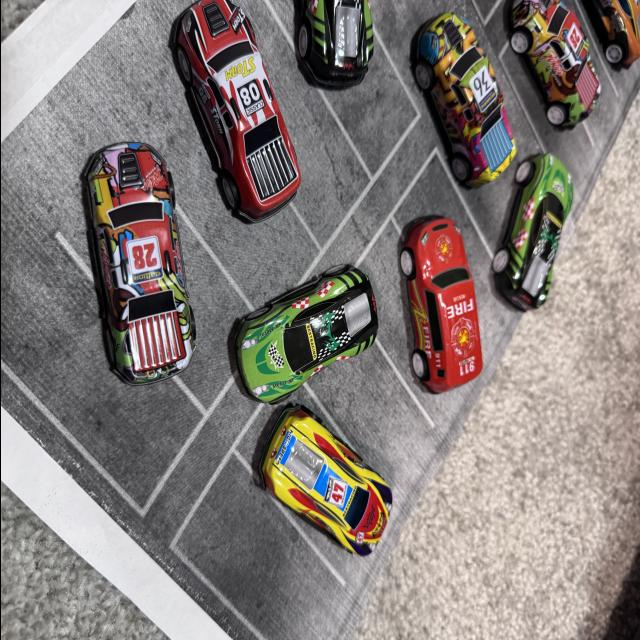Car: (76, 106, 200, 418), (185, 0, 304, 272), (231, 249, 377, 427), (243, 406, 412, 552), (485, 143, 587, 345), (399, 9, 504, 202), (399, 216, 481, 412), (496, 0, 590, 166), (283, 0, 385, 120), (599, 0, 640, 105)
